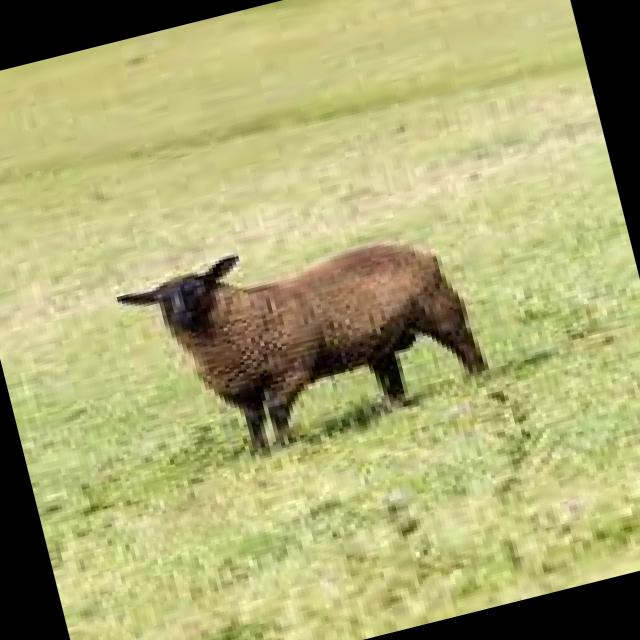animal: (112, 197, 500, 478)
